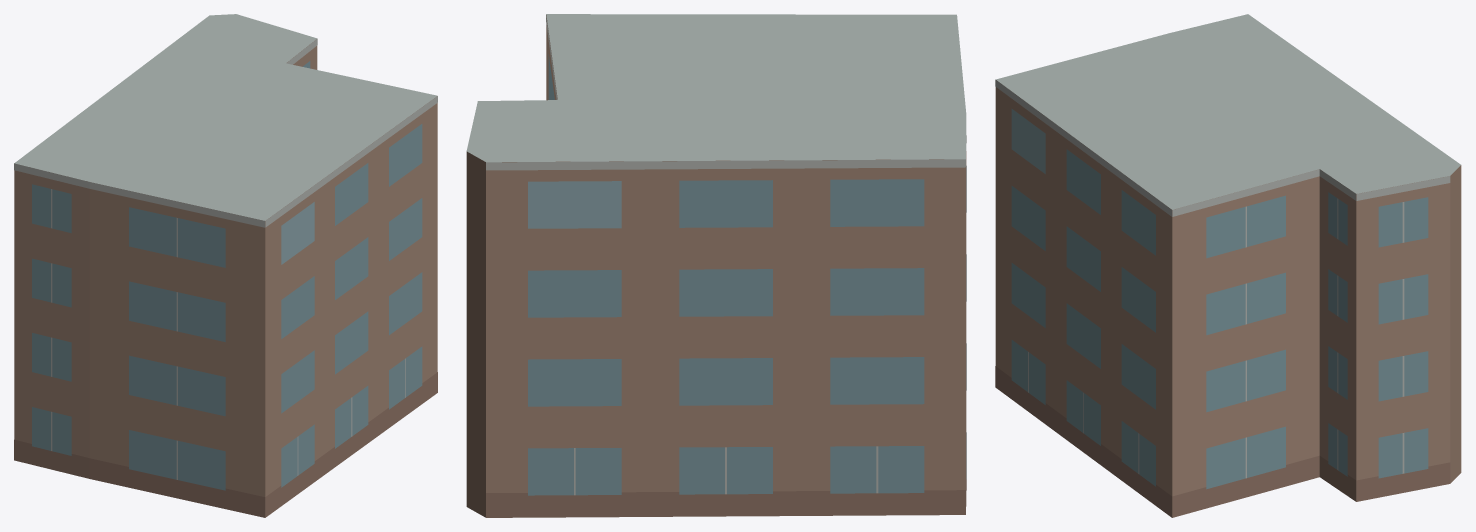
Rendered from survey-upis-32527008.glb.
3 views of the same model, side by side, from view 1: azimuth 30°, elevation 25°; view 2: azimuth 150°, elevation 25°; view 3: azimuth 270°, elevation 25° (orthographic). The views are drawn at different scales.
Visible parts, largest first — view 1: survey-upis-32527008.tmp; view 2: survey-upis-32527008.tmp; view 3: survey-upis-32527008.tmp.
Part boxes in pixels (x1,y1,x2,y2): survey-upis-32527008.tmp: (14, 14, 437, 517); survey-upis-32527008.tmp: (466, 14, 966, 517); survey-upis-32527008.tmp: (995, 14, 1461, 517).
Bounding box in the file's own units: 14.33 × 10.5 × 14.4.
